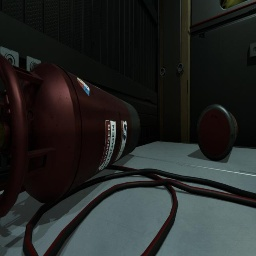NitrogenTank ,: (0, 53, 140, 218), (196, 104, 238, 161)
